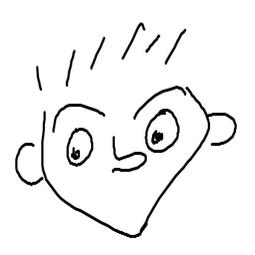ear: (8, 137, 44, 187), (209, 108, 240, 150)
eye: (57, 123, 96, 171), (145, 107, 181, 156)
eyebrow: (49, 97, 108, 133)
frowning_eyebrow: (133, 80, 194, 121)
nose: (108, 134, 146, 174)
